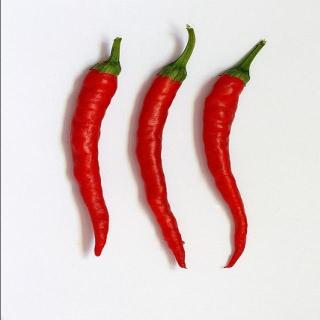Cabai Merah: (135, 24, 197, 270), (202, 39, 267, 269), (70, 37, 123, 257)
